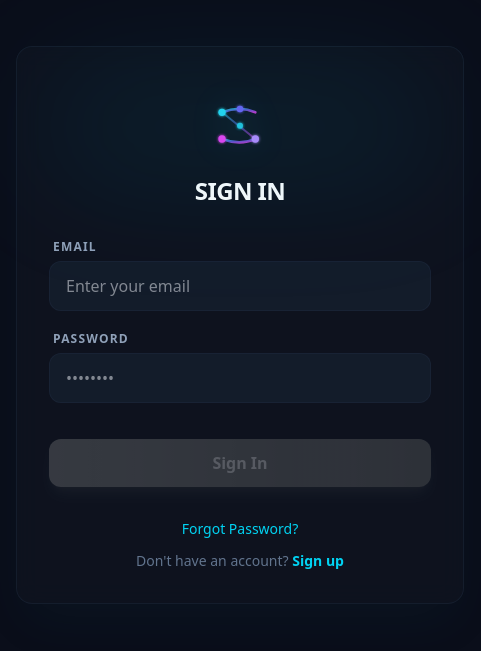
Test: UserAuthPage › Interactions › switches form mode when user clicks switch mode link
The image size is (481, 651).
Expected: the heading "Sign In" is shown, [195,174,285,207]
Expected: the text "Don't have an account? Sign up" is shown, [136,551,344,570]
Click the link "Sign up" at (318, 560), box [292,551,344,570]
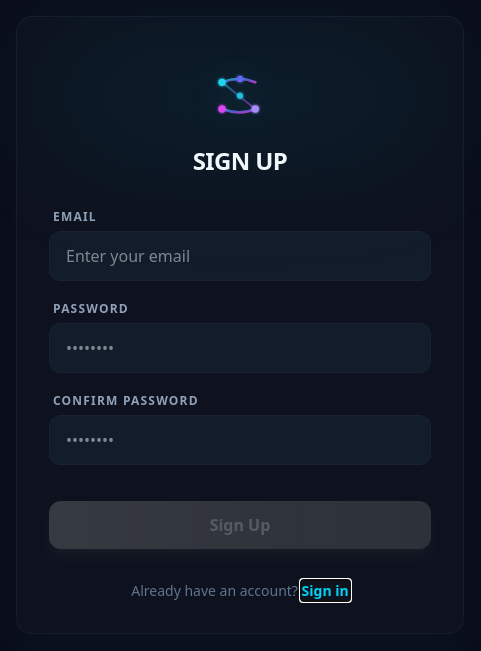
Expected: the heading "Sign Up" is shown, [193,144,287,177]
